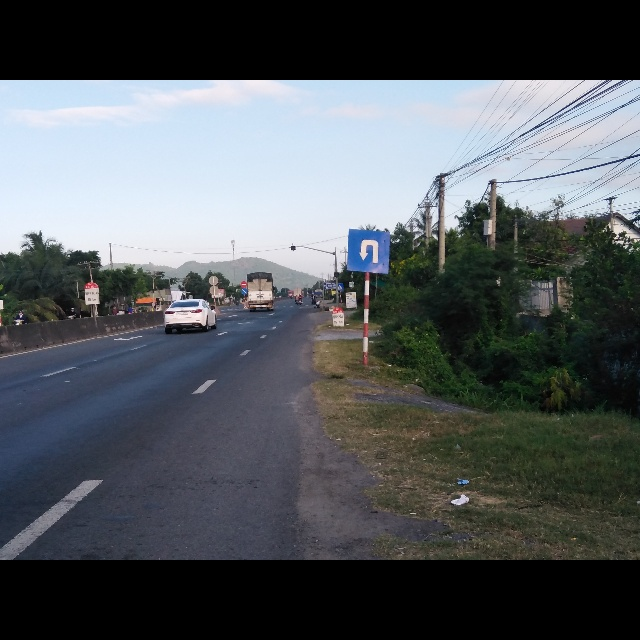Khu vực quay đầu xe: (346, 228, 391, 276)
